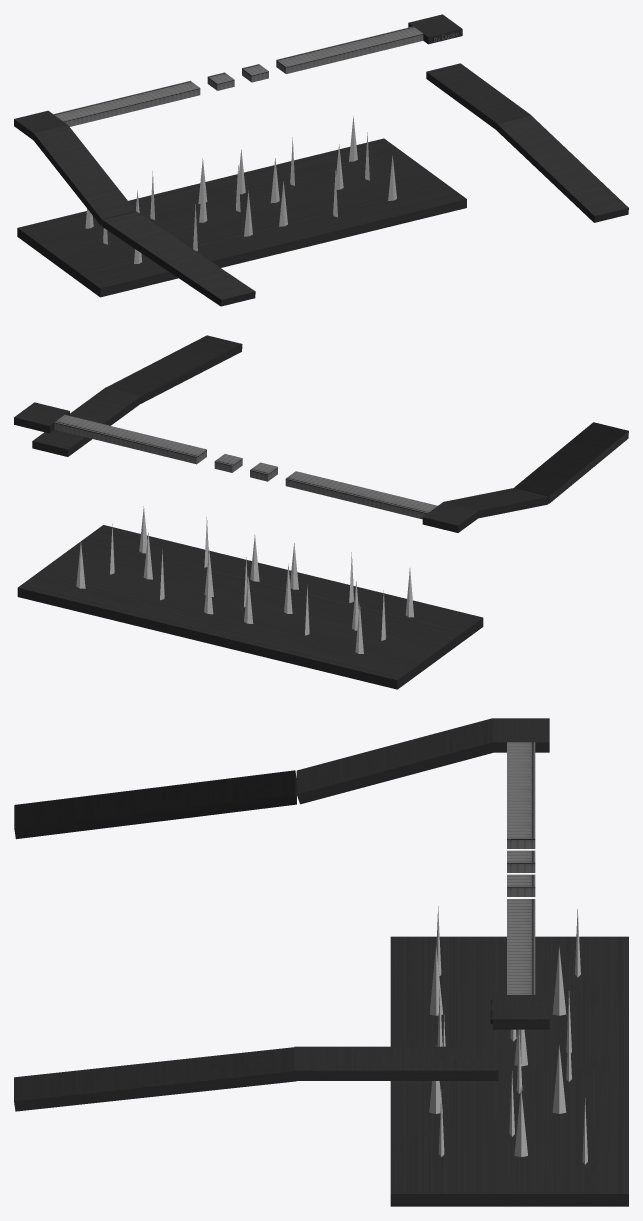
3 renders of one model, top to bottom at view 1: azimuth 30°, elevation 25°; view 2: azimuth 150°, elevation 25°; view 3: azimuth 270°, elevation 25°, orthographic. The views are drawn at different scales.
Parts seen in each view (by area): view 1: Box, Box31, Box32, Box30, Box29, Box28, Box27; view 2: Box, Box32, Box31, Box29, Box30, Box27, Box28; view 3: Box, Box32, Box31, Box29, Box30, Box28, Box27, Box1, Box18, Box20.
Part boxes in pixels (<box>): Box: <box>17,138,466,297</box>; Box31: <box>496,115,628,222</box>; Box32: <box>102,211,255,306</box>; Box30: <box>33,125,135,225</box>; Box29: <box>426,63,531,129</box>; Box28: <box>408,14,462,44</box>; Box27: <box>14,110,67,139</box>; Box: <box>17,525,483,689</box>; Box32: <box>514,422,628,503</box>; Box31: <box>107,335,242,403</box>; Box29: <box>32,387,141,456</box>; Box30: <box>444,488,549,518</box>; Box27: <box>422,502,478,532</box>; Box28: <box>14,402,69,433</box>; Box: <box>390,936,628,1206</box>; Box32: <box>14,770,296,839</box>; Box31: <box>14,1047,296,1111</box>; Box29: <box>294,1046,498,1080</box>; Box30: <box>296,718,495,804</box>; Box28: <box>492,995,549,1029</box>; Box27: <box>492,718,549,752</box>; Box1: <box>507,874,535,896</box>; Box18: <box>507,826,535,848</box>; Box20: <box>507,850,535,872</box>.
Size of the model in its own units: 12.5 by 4.06 by 10.8.
